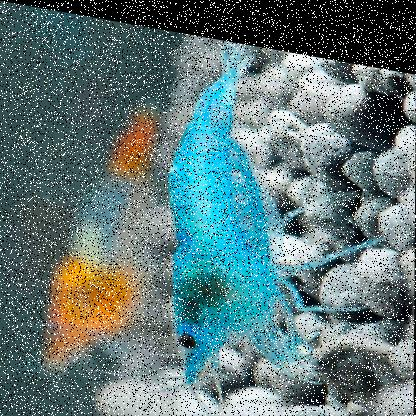shrimp: (169, 25, 381, 412)
